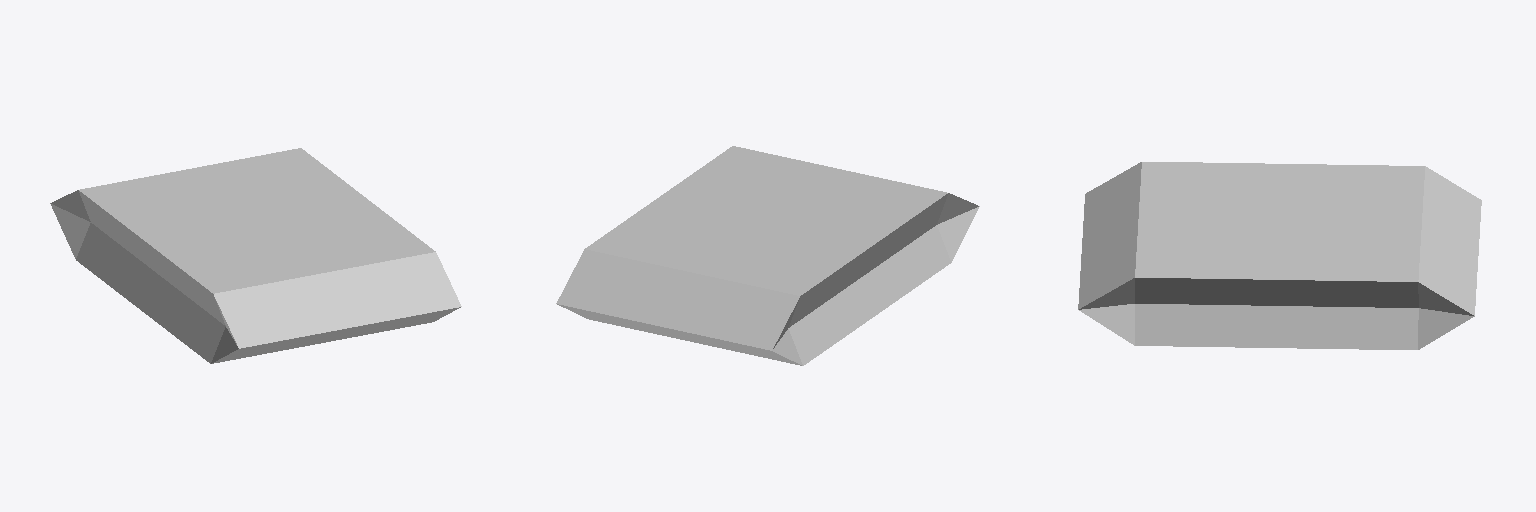
The model's file is LaysChips.obj.
3 views of the same model, side by side, from view 1: azimuth 30°, elevation 25°; view 2: azimuth 150°, elevation 25°; view 3: azimuth 270°, elevation 25° (orthographic).
Parts seen in each view (by area): view 1: laysChips:pCube25; view 2: laysChips:pCube25; view 3: laysChips:pCube25.
Part boxes in pixels (bbox=[...]): laysChips:pCube25: bbox=[50, 148, 461, 363]; laysChips:pCube25: bbox=[556, 146, 979, 365]; laysChips:pCube25: bbox=[1078, 162, 1481, 349].
Size of the model in its own units: 1.04 by 0.3454 by 1.58.